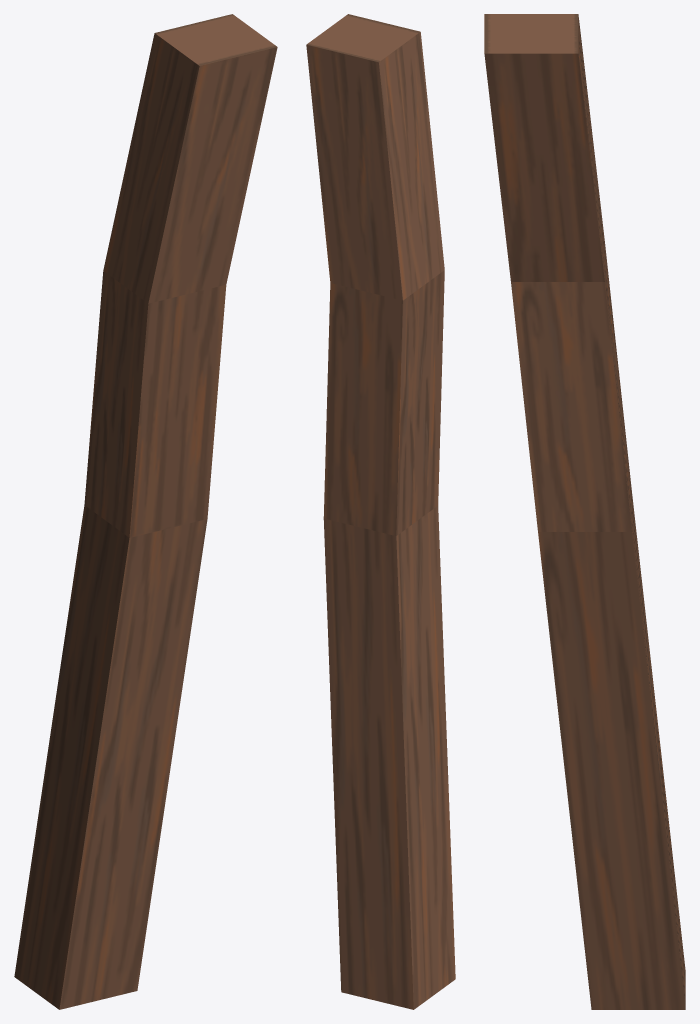
The model's file is WoodModel.glb.
3 renders of one model, left to right at view 1: azimuth 30°, elevation 25°; view 2: azimuth 150°, elevation 25°; view 3: azimuth 270°, elevation 25°, orthographic. The views are drawn at different scales.
Visible parts, largest first — view 1: Plane.001; view 2: Plane.001; view 3: Plane.001.
Boxes of the visible parts, x1,y1,x2,y2 form: Plane.001: (14,14,277,1009); Plane.001: (306,14,455,1009); Plane.001: (484,14,685,1009).
Bounding box in the file's own units: 0.939 × 5.16 × 0.939.
Materials: 1 (1 with a texture image).
